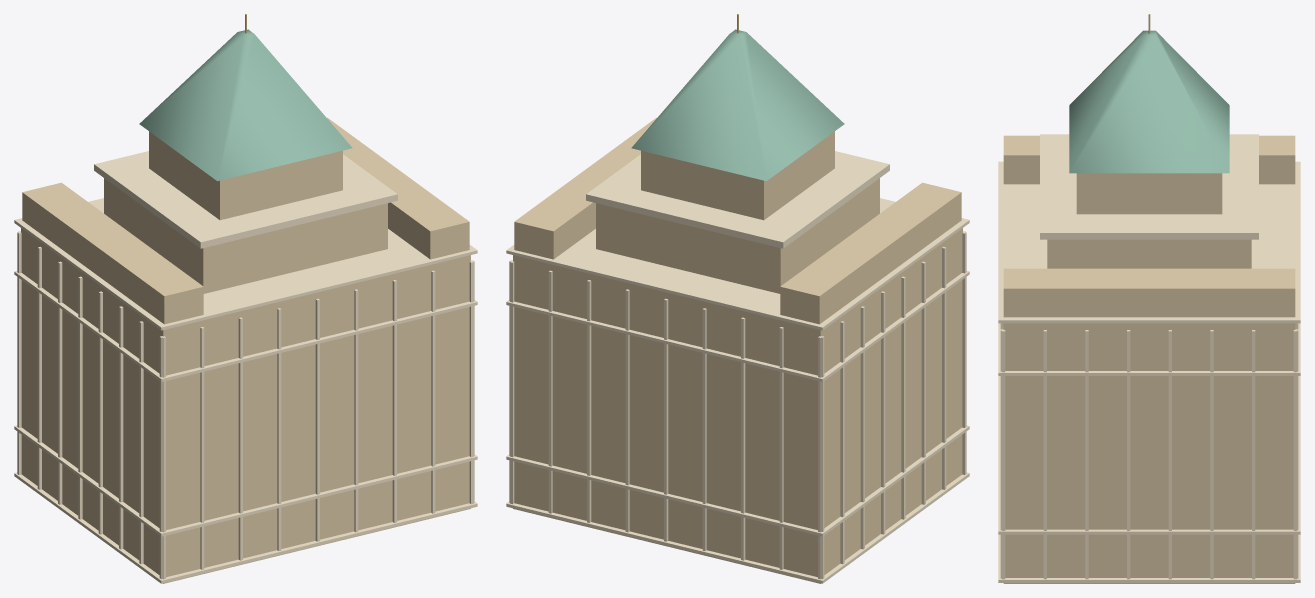
The model's file is peace-lod1.glb.
3 renders of one model, left to right at view 1: azimuth 30°, elevation 25°; view 2: azimuth 150°, elevation 25°; view 3: azimuth 270°, elevation 25°, orthographic. The views are drawn at different scales.
Parts seen in each view (by area): view 1: peace_architecture; view 2: peace_architecture; view 3: peace_architecture.
Boxes of the visible parts, <box> form: peace_architecture: <box>14,14,477,583</box>; peace_architecture: <box>506,14,969,583</box>; peace_architecture: <box>998,14,1300,583</box>.
Size of the model in its own units: 25.7 by 37.25 by 20.7.
